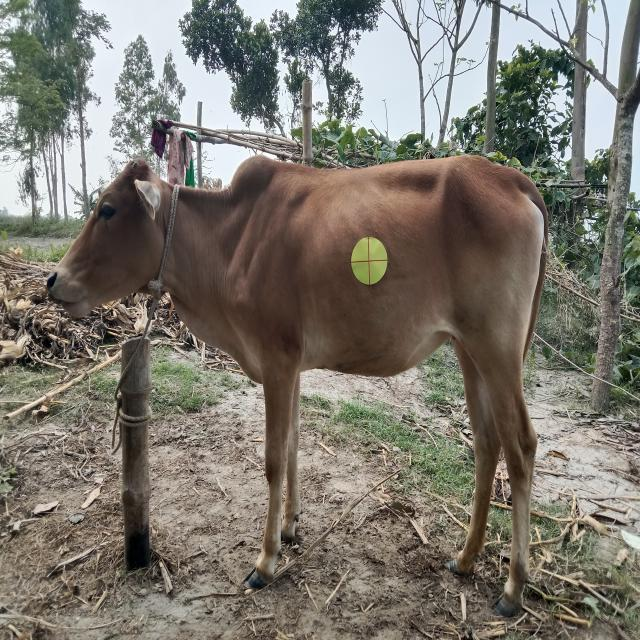badan_sapi: (226, 168, 538, 375)
sapi: (31, 124, 589, 624)
